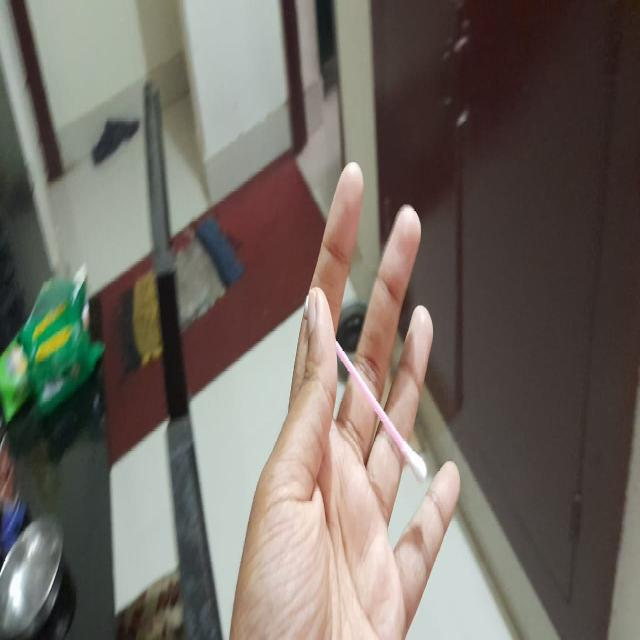Earbud - Non Recyclable: (301, 286, 429, 484)
